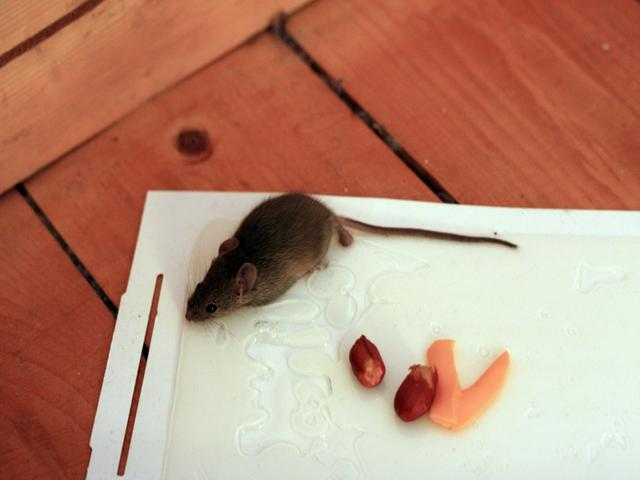mouse: (173, 176, 546, 343)
